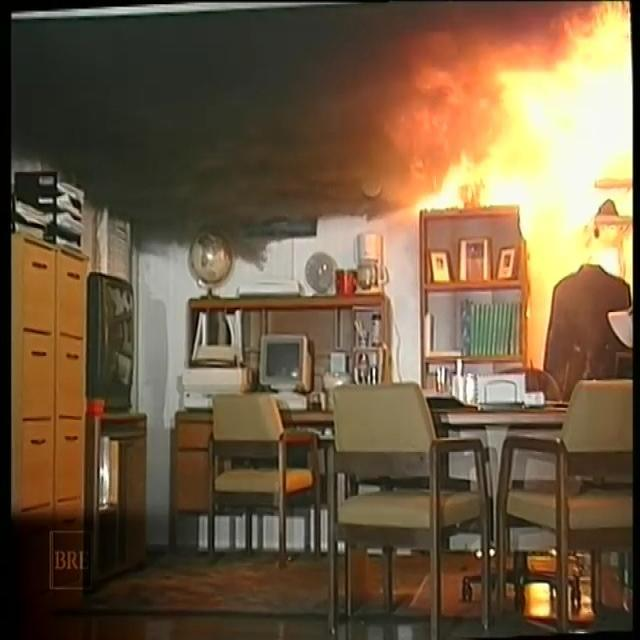Fire: (439, 8, 628, 202)
